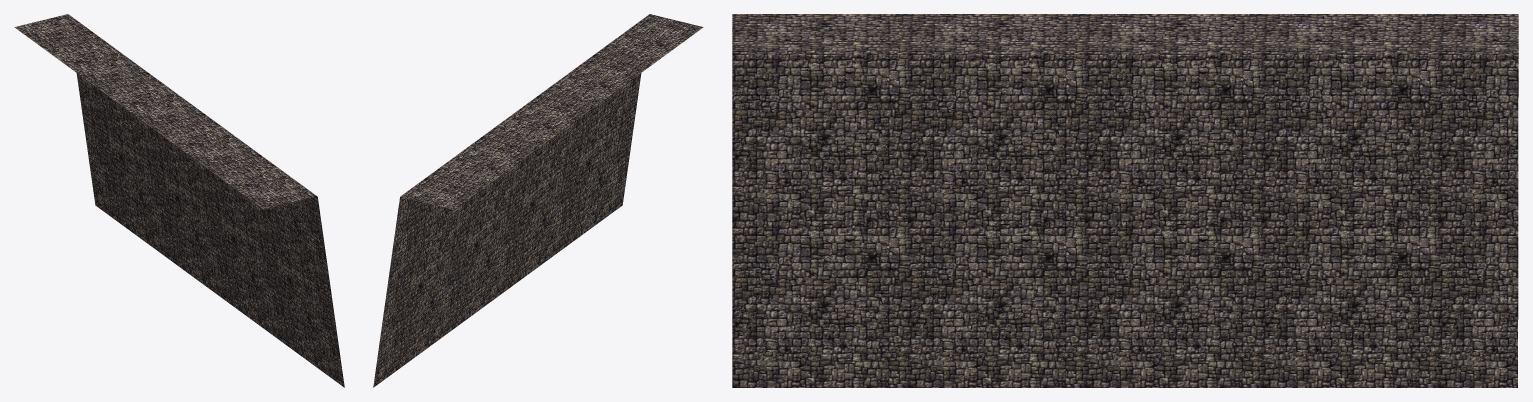
The model's file is pir_m_bld_frt_outerWall_200.fbx.
3 renders of one model, left to right at view 1: azimuth 30°, elevation 25°; view 2: azimuth 150°, elevation 25°; view 3: azimuth 270°, elevation 25°, orthographic. The views are drawn at different scales.
Visible parts, largest first — view 1: outerWall_200; view 2: outerWall_200; view 3: outerWall_200.
Part boxes in pixels (<box>): outerWall_200: <box>14,14,344,387</box>; outerWall_200: <box>373,14,703,387</box>; outerWall_200: <box>732,14,1518,387</box>.
Size of the model in its own units: 3750 by 8750 by 20000.
1 material, 1 textured.
